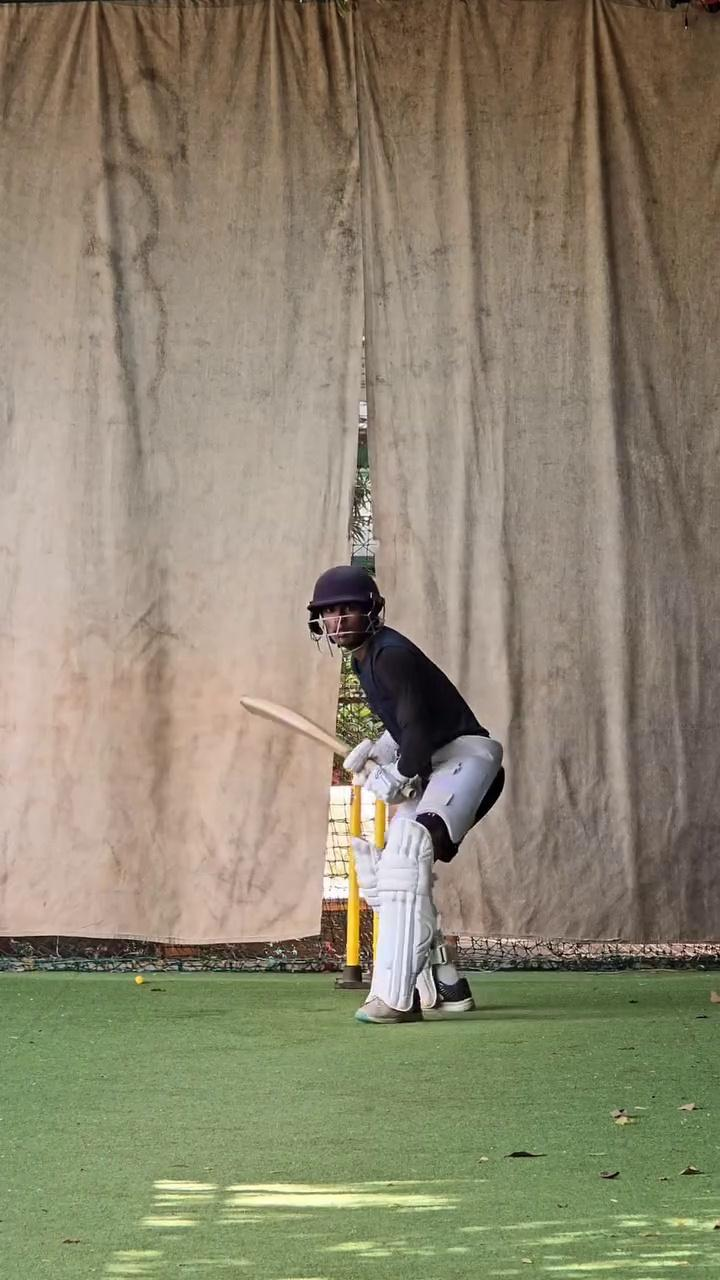bat: (234, 684, 353, 771)
